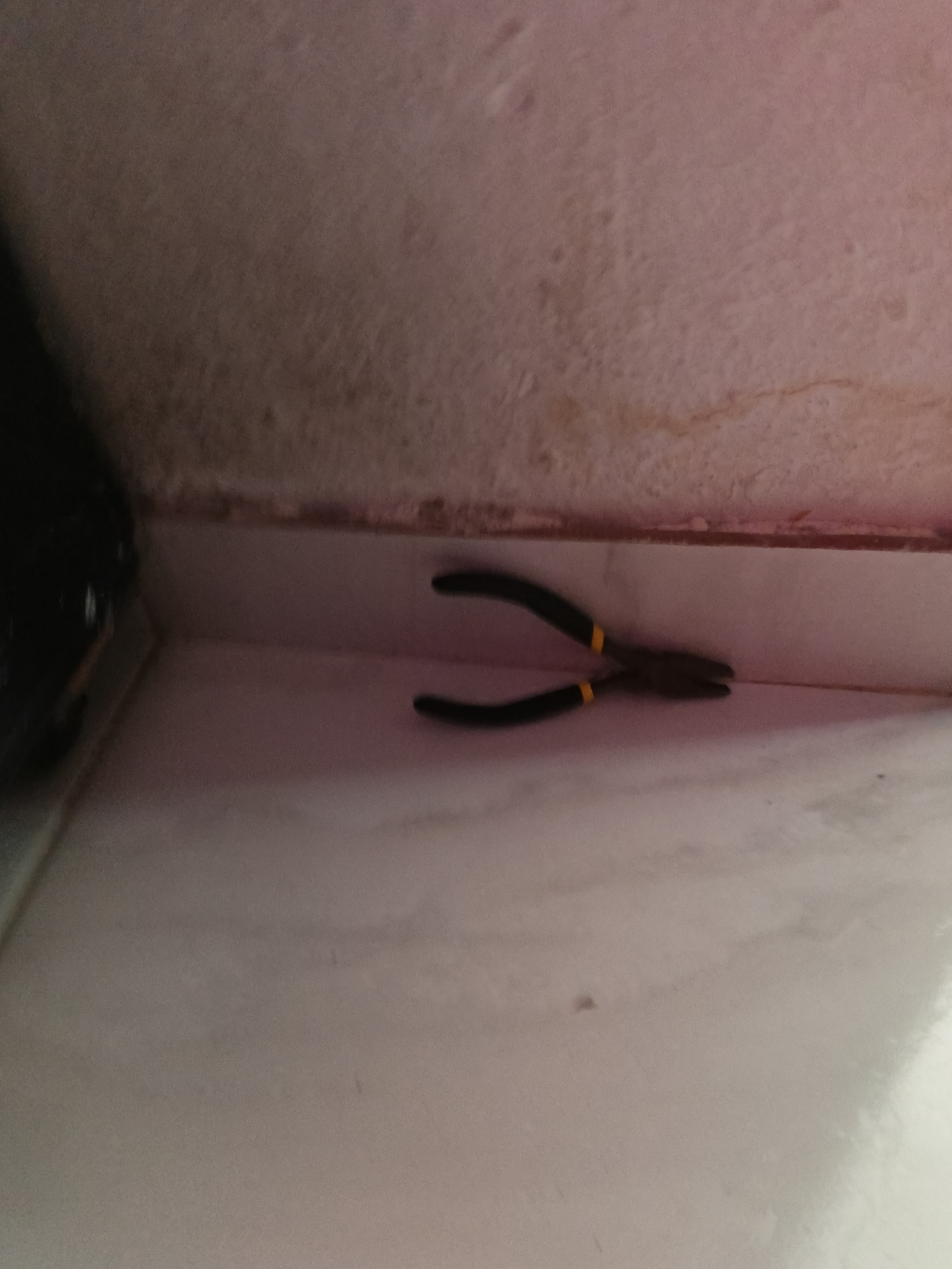Pinzas: (413, 567, 734, 730)
